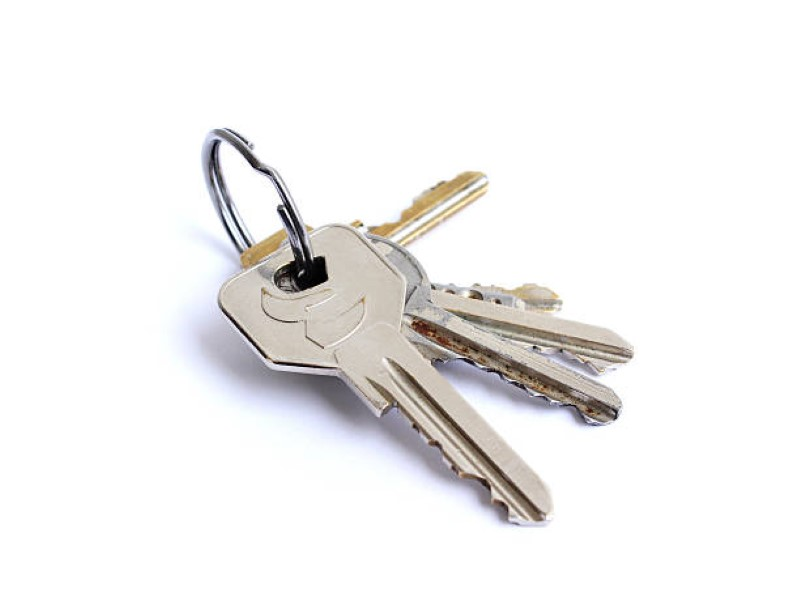key: (215, 214, 635, 533)
